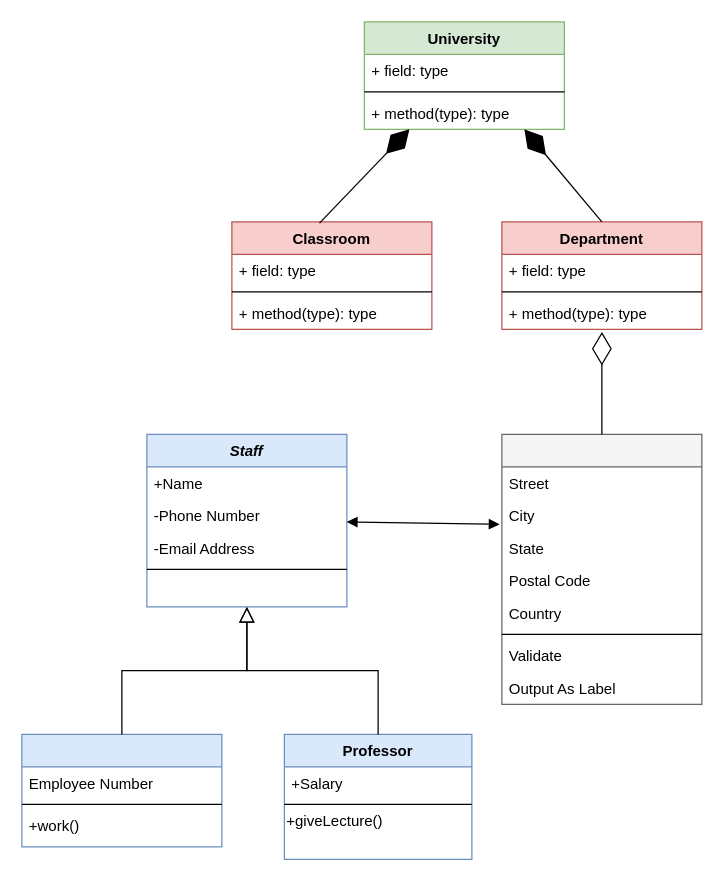
Some shapes in this 724 by 881 pixel diagram are drawn without their labels. Each missing label, with the box of its shape:
Office: (501, 433, 702, 704)
Officer: (21, 733, 222, 847)
